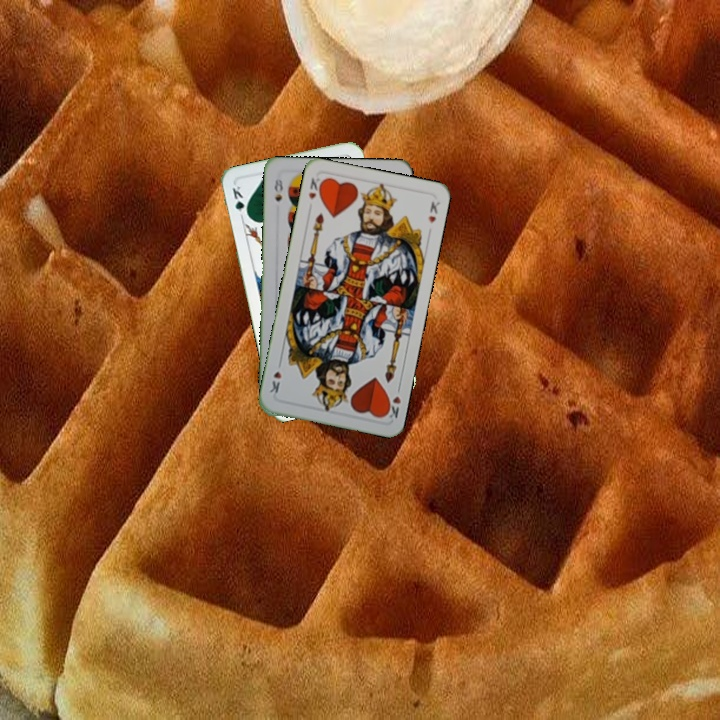GK: (228, 182, 251, 221)
HK: (381, 392, 403, 421), (304, 174, 326, 202)
S8: (270, 175, 286, 204)
